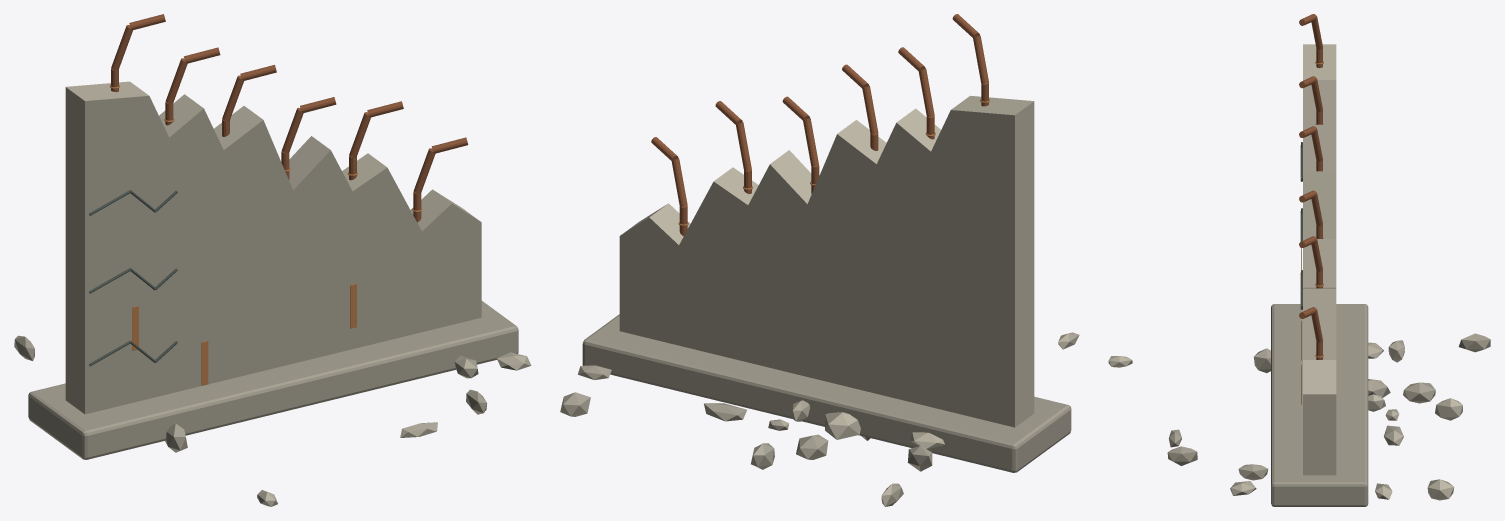
Rendered from Wall_Jagged_Rebar.glb.
3 views of the same model, side by side, from view 1: azimuth 30°, elevation 25°; view 2: azimuth 150°, elevation 25°; view 3: azimuth 270°, elevation 25° (orthographic). The views are drawn at different scales.
Parts seen in each view (by area): view 1: Fractured wall, Footing; view 2: Fractured wall, Footing, Broken concrete aggregate.012, Broken concrete aggregate.020, Broken concrete aggregate.007, Broken concrete aggregate.010; view 3: Footing, Fractured wall, Broken concrete aggregate.020, Broken concrete aggregate.001, Broken concrete aggregate.010, Broken concrete aggregate.018, Broken concrete aggregate.013.
Part boxes in pixels (x1,y1,x2,y2): Fractured wall: (65, 81, 481, 414); Footing: (28, 301, 518, 459); Fractured wall: (619, 95, 1034, 427); Footing: (582, 314, 1071, 472); Broken concrete aggregate.012: (825, 412, 860, 439); Broken concrete aggregate.020: (796, 434, 828, 459); Broken concrete aggregate.007: (704, 403, 746, 421); Broken concrete aggregate.010: (560, 392, 590, 416); Footing: (1271, 304, 1368, 506); Fractured wall: (1303, 44, 1336, 475); Broken concrete aggregate.020: (1403, 382, 1435, 403); Broken concrete aggregate.001: (1435, 398, 1462, 420); Broken concrete aggregate.010: (1427, 479, 1453, 500); Broken concrete aggregate.018: (1167, 446, 1197, 465); Broken concrete aggregate.013: (1458, 333, 1490, 352).
Size of the model in its own units: 4.4 by 4.06 by 3.93.
